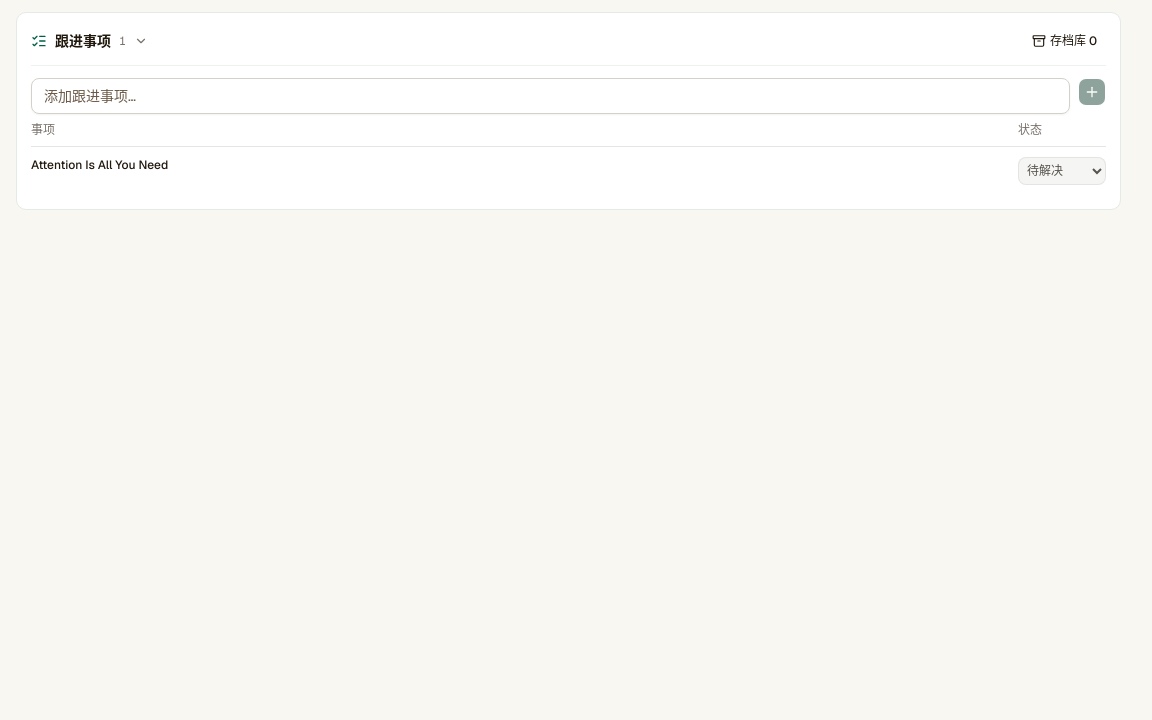
Test: follow-up panel › adds an item, changes its state, archives it on resolution and reopens it
Type "  LeetCode 146 LRU  " into the field named "新跟进事项" at (550, 96), box top-left (31, 78), bottom-right (1070, 114)
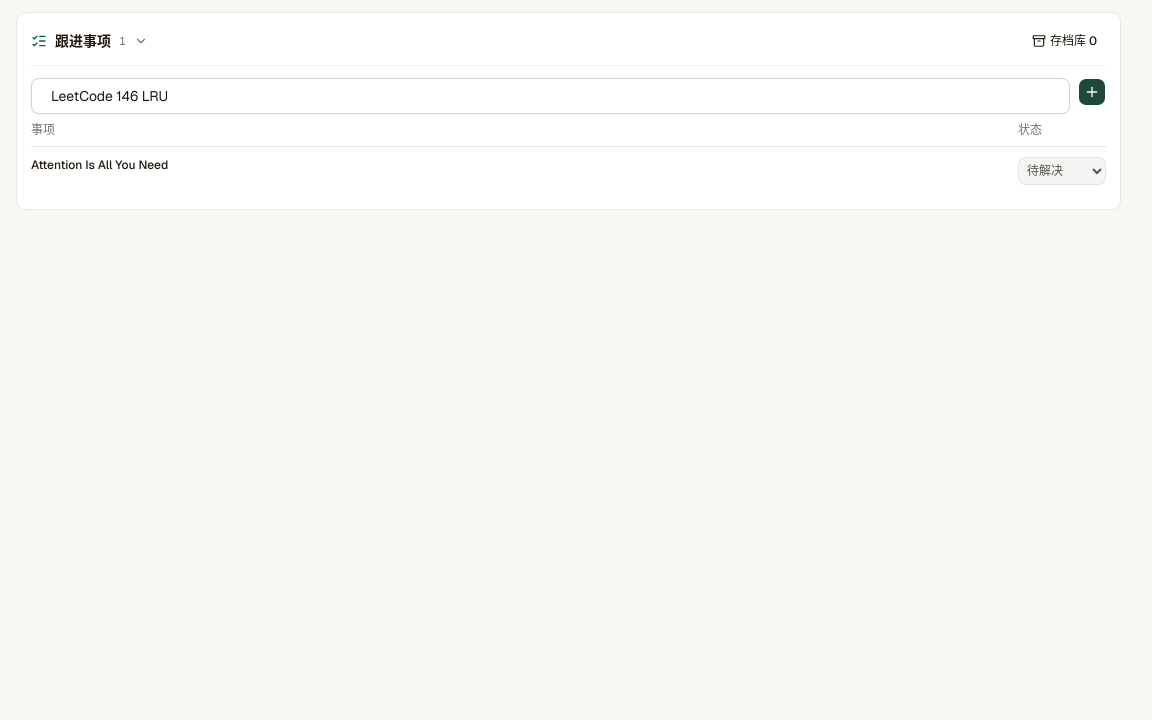
Click the button named "添加跟进事项" at (1092, 92), box top-left (1078, 78), bottom-right (1106, 106)
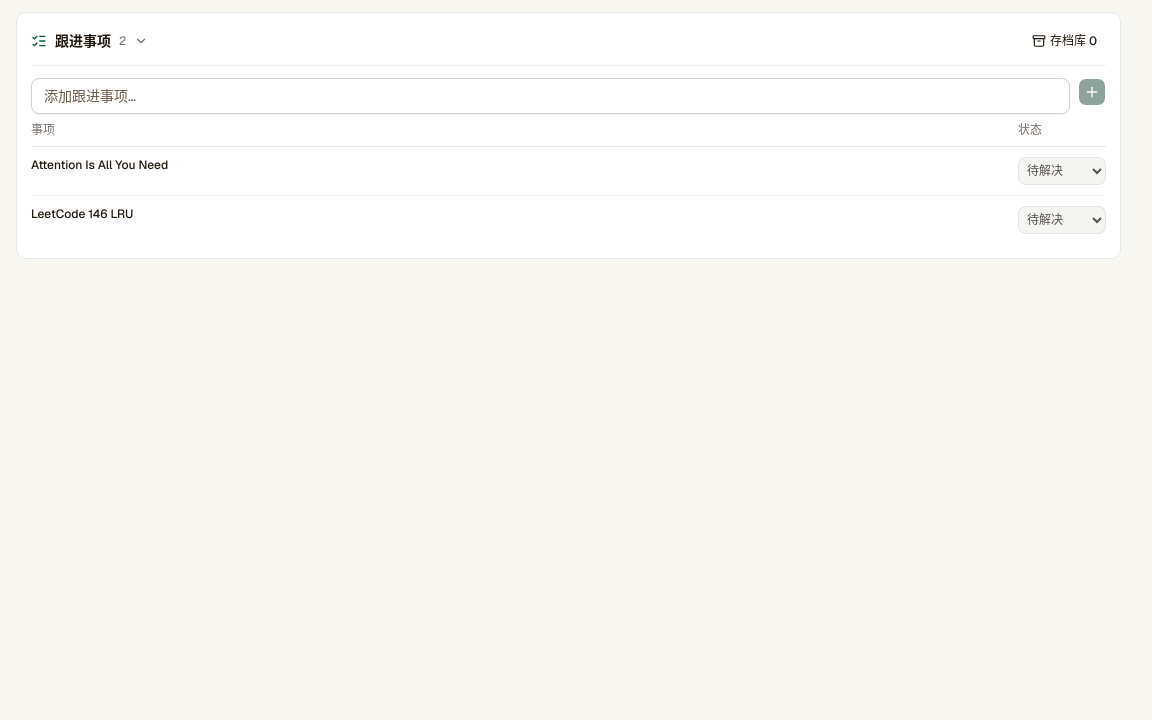
Select "尝试中" in the dropdown named "LeetCode 146 LRU的跟进状态" at (1062, 220), box top-left (1018, 206), bottom-right (1106, 234)
Select "待验证" in the dropdown named "LeetCode 146 LRU的跟进状态" at (1062, 220), box top-left (1018, 206), bottom-right (1106, 234)
Select "暂搁置" in the dropdown named "LeetCode 146 LRU的跟进状态" at (1062, 220), box top-left (1018, 206), bottom-right (1106, 234)
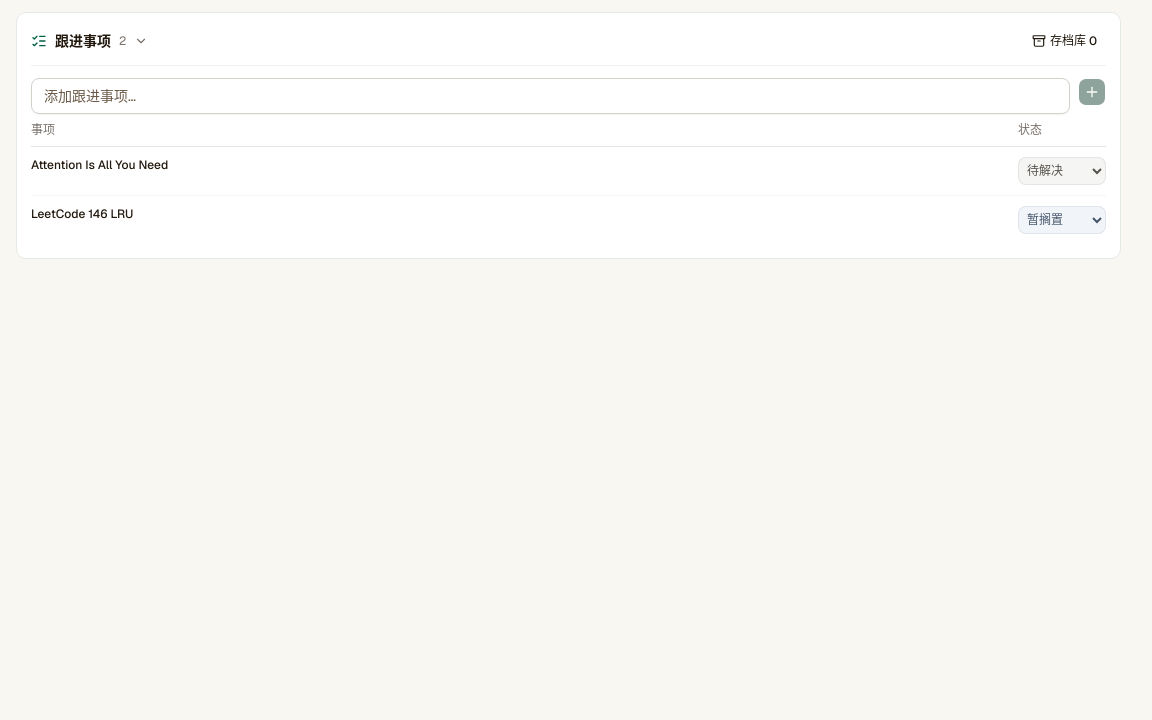
Select "已解决" in the dropdown named "LeetCode 146 LRU的跟进状态" at (1062, 220), box top-left (1018, 206), bottom-right (1106, 234)
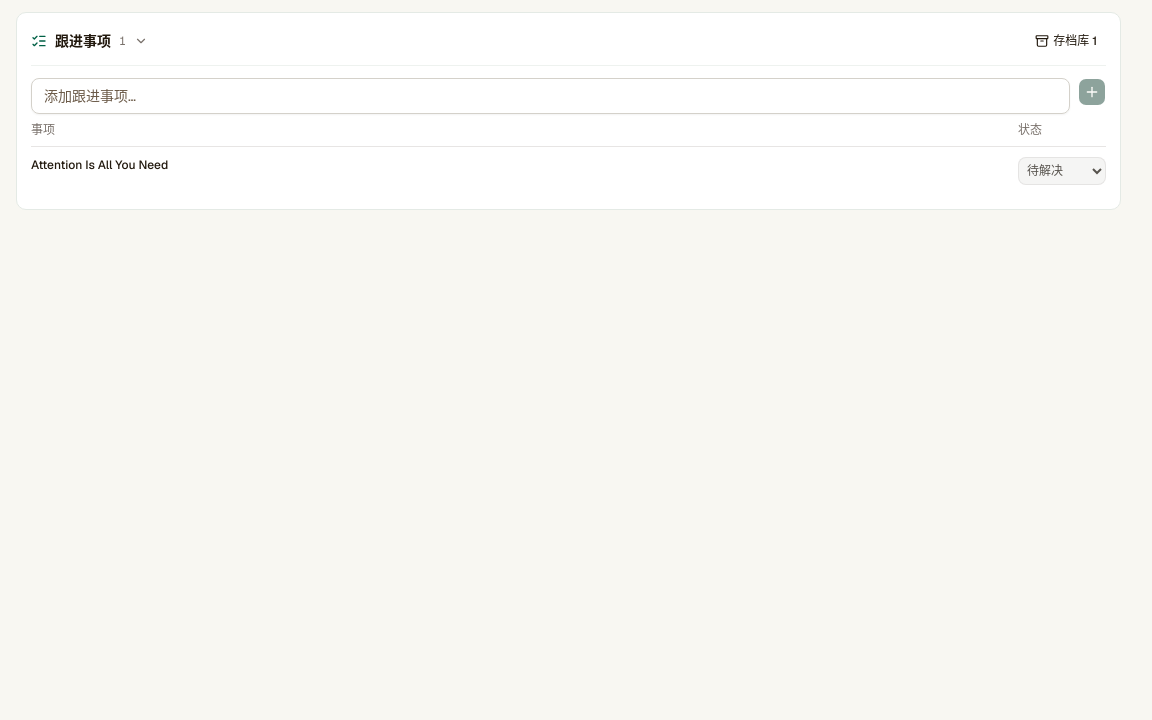
Check: the button "LeetCode 146 LRU" is gone
Click the button "存档库 1" at (1066, 41), box top-left (1026, 27), bottom-right (1106, 55)
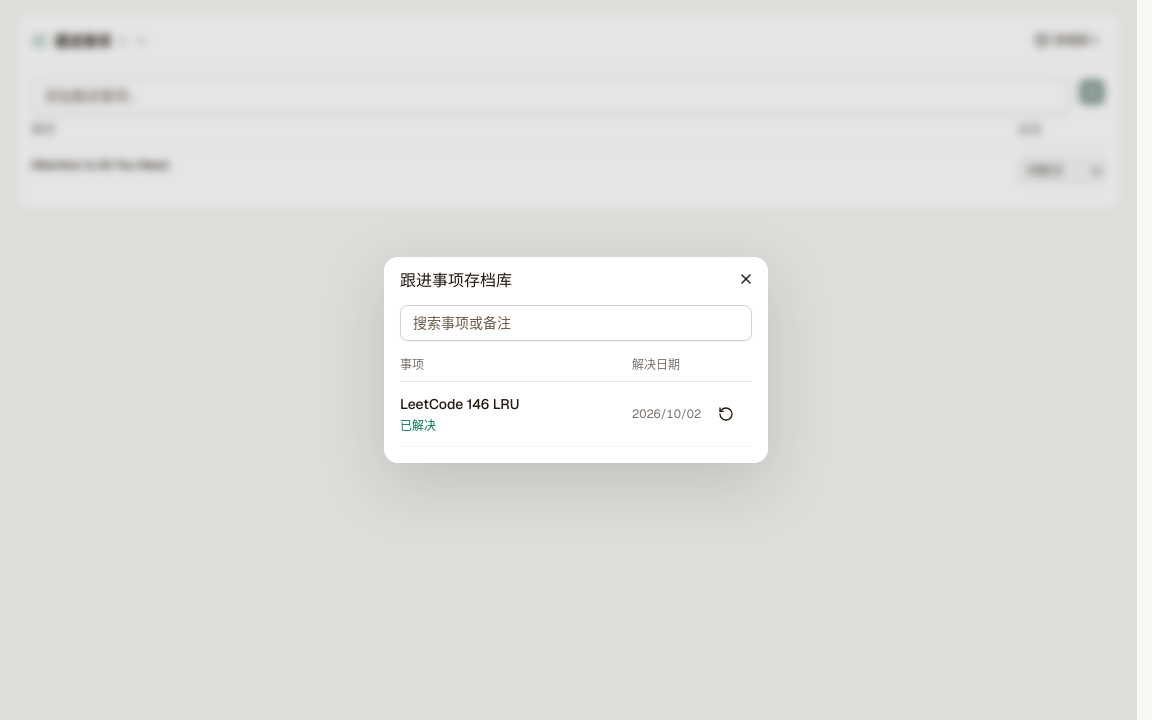
Check: the text "LeetCode 146 LRU" is shown, box top-left (400, 395), bottom-right (520, 413)
Check: the text "2026/10/02" is shown, box top-left (632, 382), bottom-right (712, 446)
Click the button named "重新跟进：LeetCode 146 LRU" at (726, 414), box top-left (712, 400), bottom-right (740, 428)
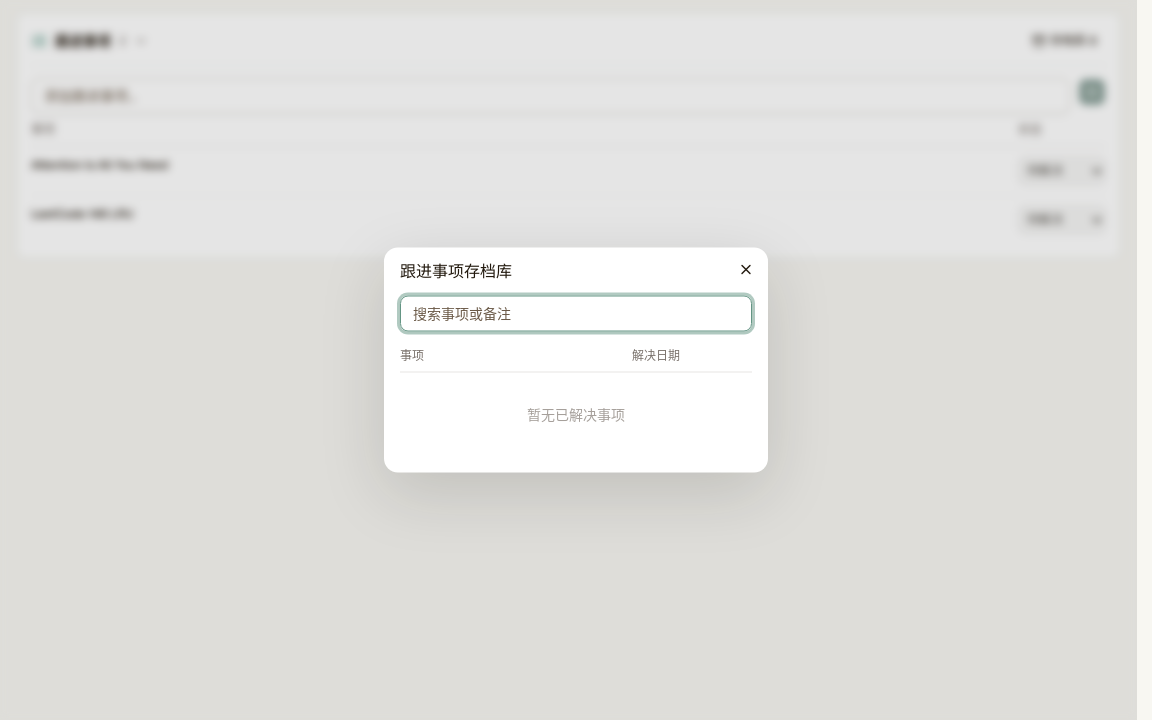
Check: the dropdown named "LeetCode 146 LRU的跟进状态" shows "待解决", box top-left (1018, 206), bottom-right (1106, 234)
